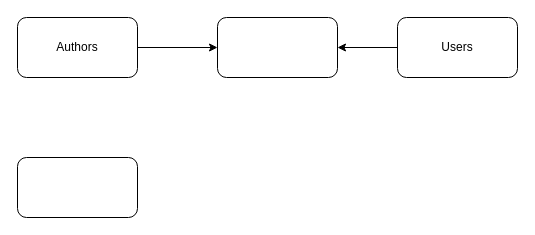
Some shapes in this 535 by 235 pixel diagram are drawn without their labels. The centre of each missing label's shape, as x and y in pixels:
"Favorite Poems with aliases" goes at point (77, 187).
"Poems" goes at point (277, 47).
